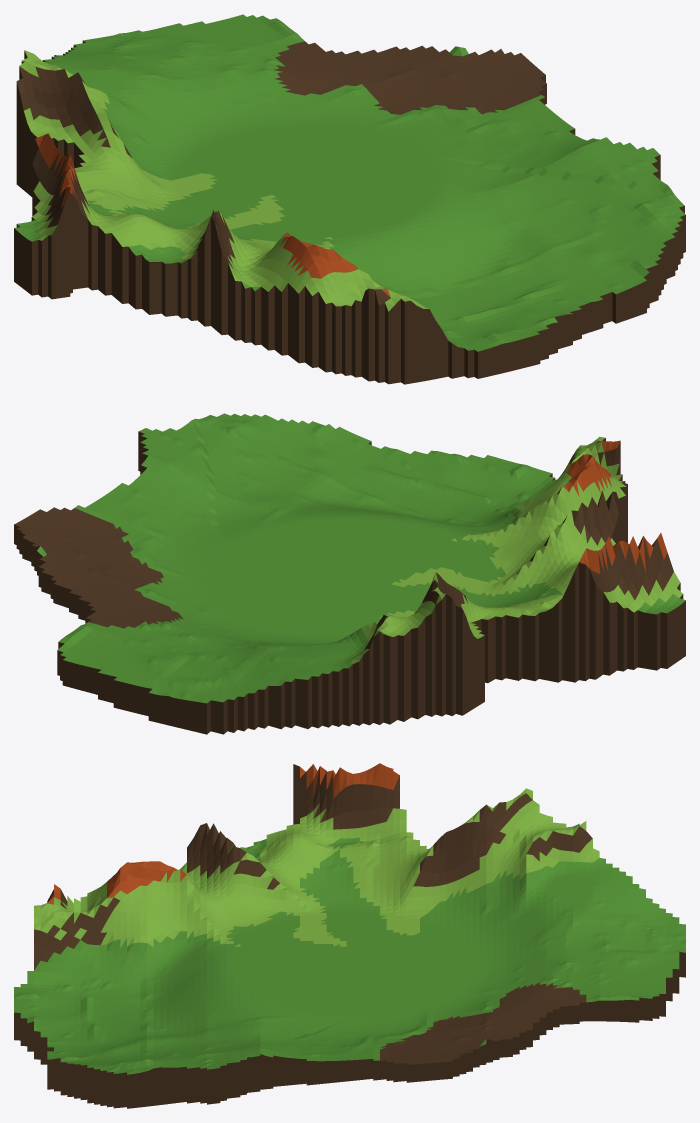
The model's file is steampunk-farm-terrain-98cb8a.glb.
3 renders of one model, top to bottom at view 1: azimuth 30°, elevation 25°; view 2: azimuth 150°, elevation 25°; view 3: azimuth 270°, elevation 25°, orthographic. The views are drawn at different scales.
Visible parts, largest first — view 1: farmland; view 2: farmland; view 3: farmland.
Part boxes in pixels (x1,y1,x2,y2): farmland: [14, 14, 685, 384]; farmland: [14, 413, 685, 734]; farmland: [14, 763, 685, 1108].
Size of the model in its own units: 46 by 12.29 by 50.5.
